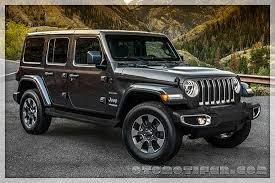mobil: (14, 29, 255, 158)
